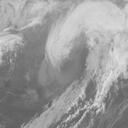cyclone: (44, 40, 97, 82)
